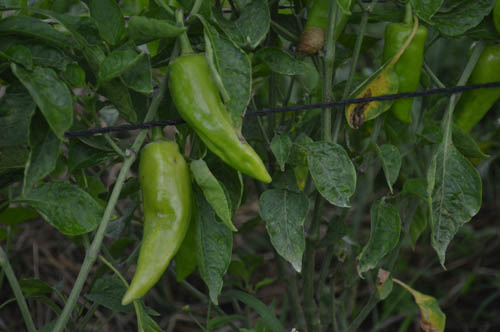ChiliPepper: (170, 55, 272, 185), (120, 143, 189, 305), (376, 25, 427, 130), (457, 47, 496, 135)
